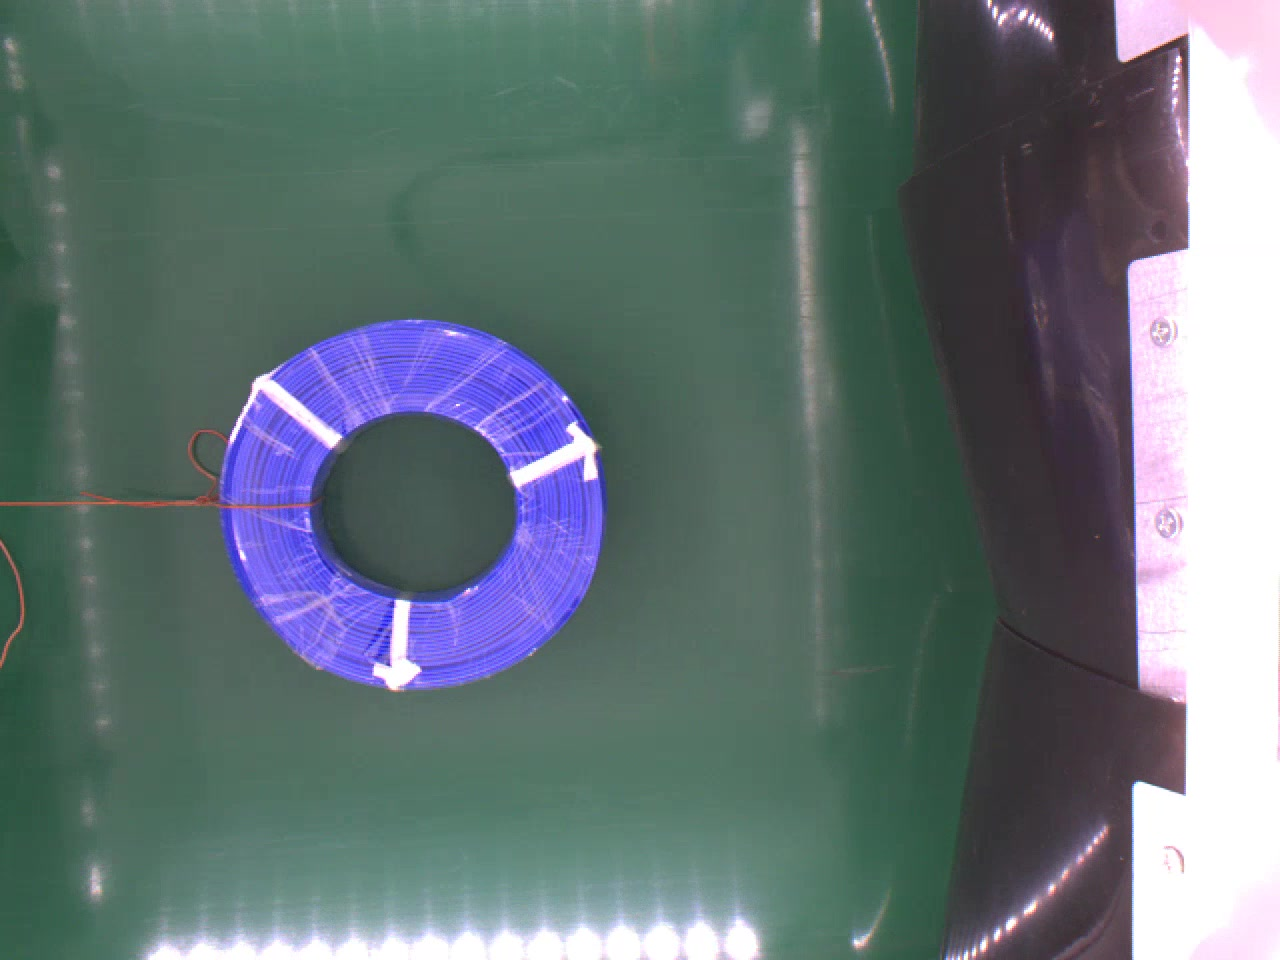blue: (220, 315, 611, 693)
